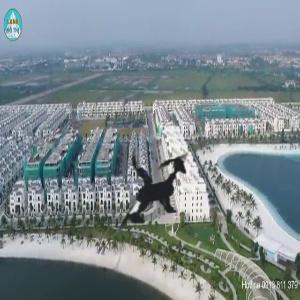drone: (67, 110, 232, 275)
